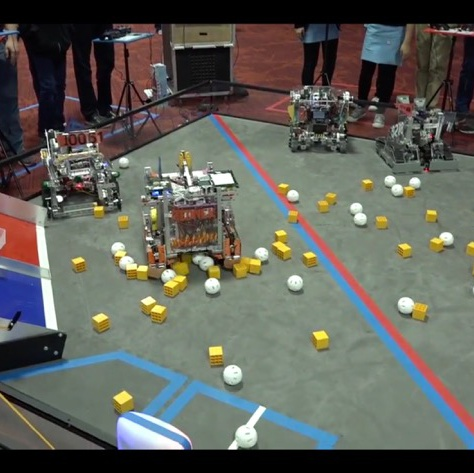robot: (134, 146, 247, 273), (38, 123, 127, 221), (373, 97, 465, 179), (284, 76, 357, 159)
